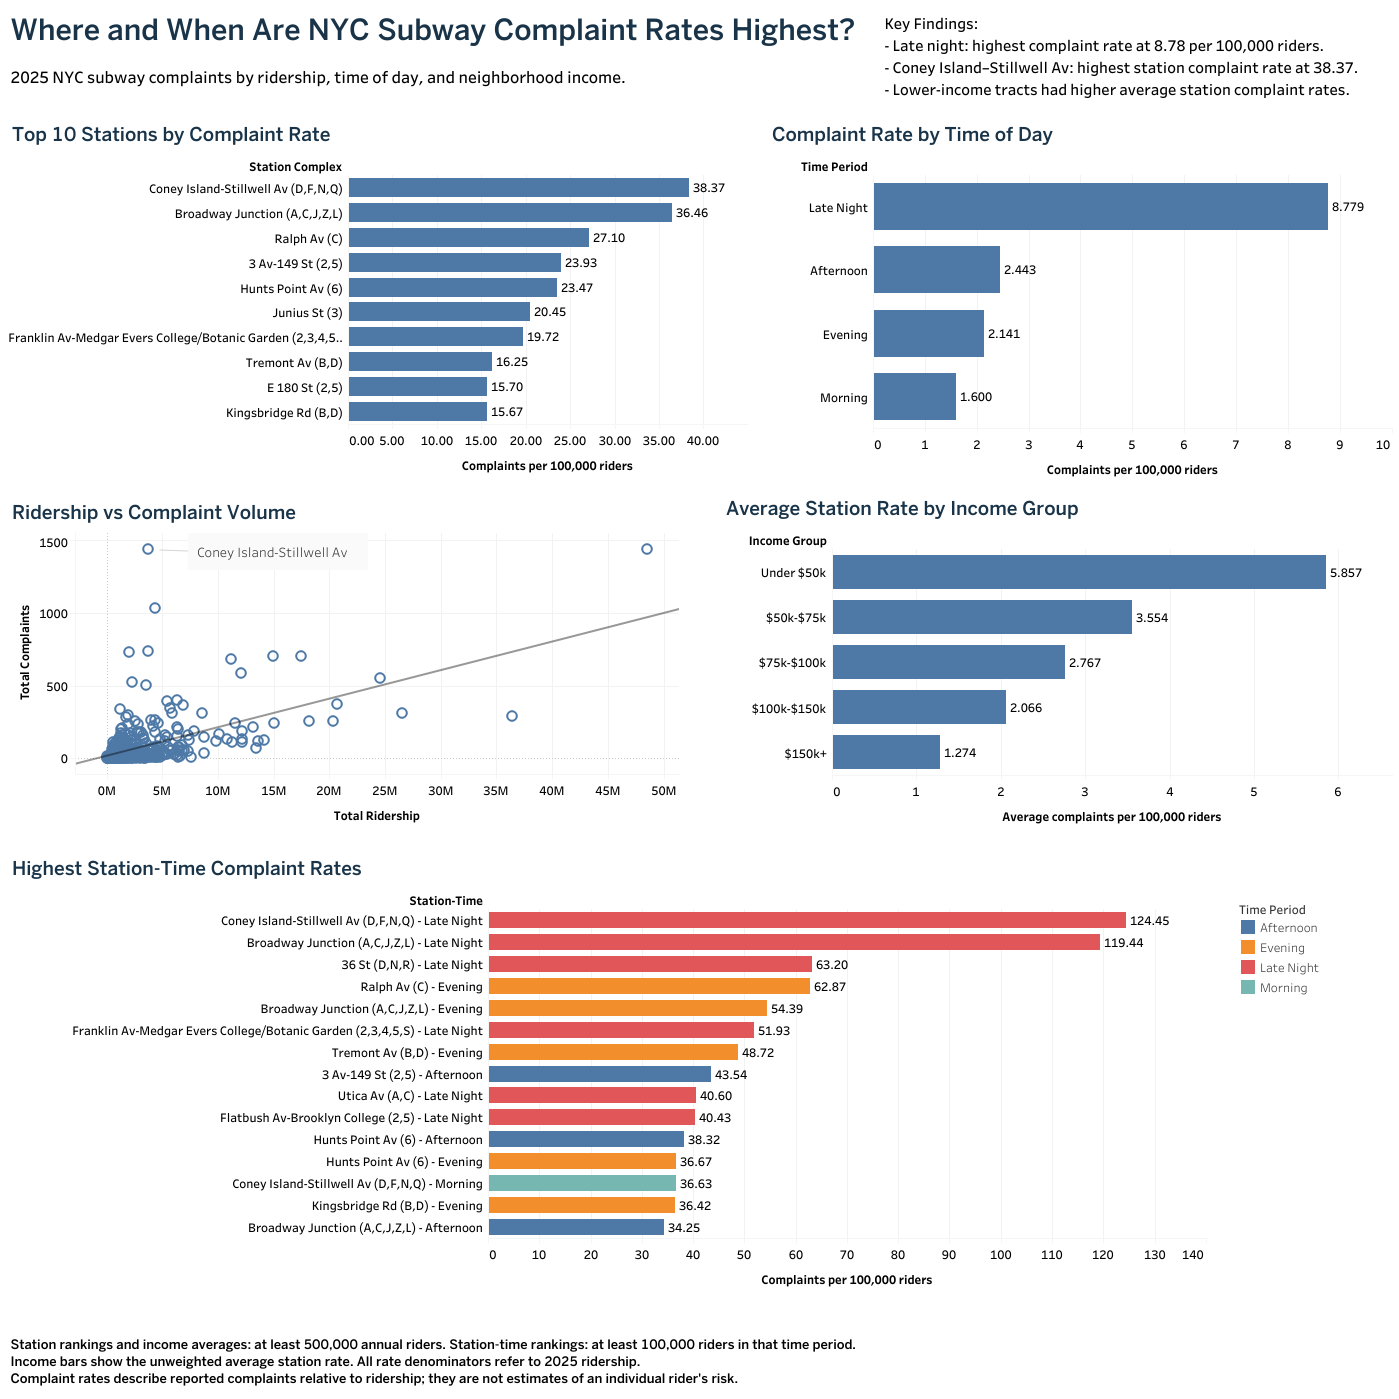

This screenshot's page, from the dashboard's own definition file:
{"tool":"tableau","page":{"name":"NYC Subway Complaints, Ridership, and Neighborhood Income — 2025","canvas":[1400,1400],"ordinal":0},"visuals":[{"type":"title","box":[0,0,878,60]},{"type":"text","box":[878,0,522,111]},{"type":"text","box":[0,60,700,32.5]},{"type":"worksheet","title":"Top 10 Stations by Complaints per 100,000 Riders","mark":"Automatic","rows":["station_complex"],"cols":["complaints_per_100k_riders"],"box":[0,108.9,755,380.3]},{"type":"worksheet","title":"Complaint Rate by Time of Day","mark":"Automatic","rows":["time_period"],"cols":["complaints_per_100k_riders"],"box":[760,108.9,640,384]},{"type":"worksheet","title":"Average Complaint Rate by Neighborhood Income Group","mark":"Automatic","rows":["income_group"],"cols":["complaints_per_100k_riders"],"box":[714,483,686,357]},{"type":"worksheet","title":"Ridership vs Complaint Volume","mark":"Automatic","rows":["total_complaints"],"cols":["total_ridership"],"box":[0,487,687,352]},{"type":"worksheet","title":"Highest Station-Time Complaint Rates","mark":"Automatic","rows":["Calculation_780248684677296128"],"cols":["complaints_per_100k_riders"],"box":[0,842.9,1213.6,460.5]},{"type":"legend","title":"Highest Station-Time Complaint Rates","param":"[federated.07pkbc21vjd8xz1cbnb600rhglux].[none:time_period:nk]","box":[1230.2,890.1,169.8,174.7]},{"type":"text","box":[0,1321.9,1400,78.1]}]}

Visuals, with their boxes in screenshot pixels (x1, y1, x2, y2), scaled from the page's 1400x1400 canvas onto the 1399x1399 screenshot:
title: select_region(0, 0, 877, 60)
text: select_region(877, 0, 1398, 111)
text: select_region(0, 60, 700, 92)
"Top 10 Stations by Complaints per 100,000 Riders" worksheet: select_region(0, 109, 754, 489)
"Complaint Rate by Time of Day" worksheet: select_region(759, 109, 1398, 493)
"Average Complaint Rate by Neighborhood Income Group" worksheet: select_region(713, 483, 1398, 839)
"Ridership vs Complaint Volume" worksheet: select_region(0, 487, 687, 838)
"Highest Station-Time Complaint Rates" worksheet: select_region(0, 842, 1213, 1302)
"Highest Station-Time Complaint Rates" legend: select_region(1229, 889, 1398, 1064)
text: select_region(0, 1321, 1398, 1398)
